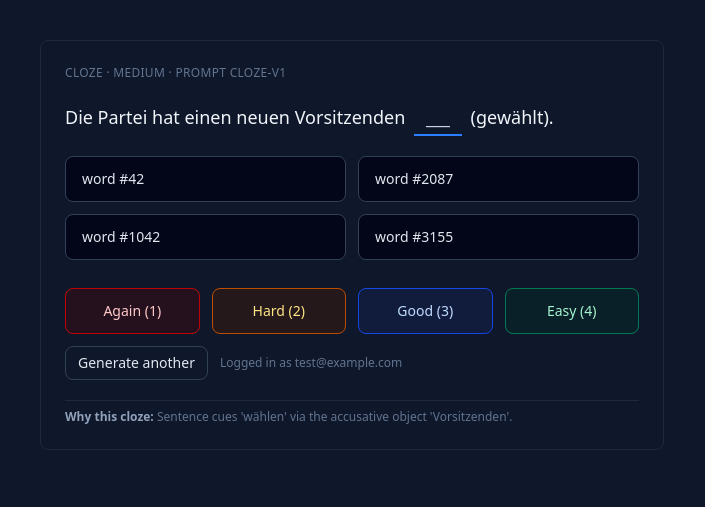
Test case: ClozePage › updates the selection when a distractor is clicked
Click the button with test id "cloze-choice-1042". click: (121,237)
box: left=65, top=214, right=346, bottom=260
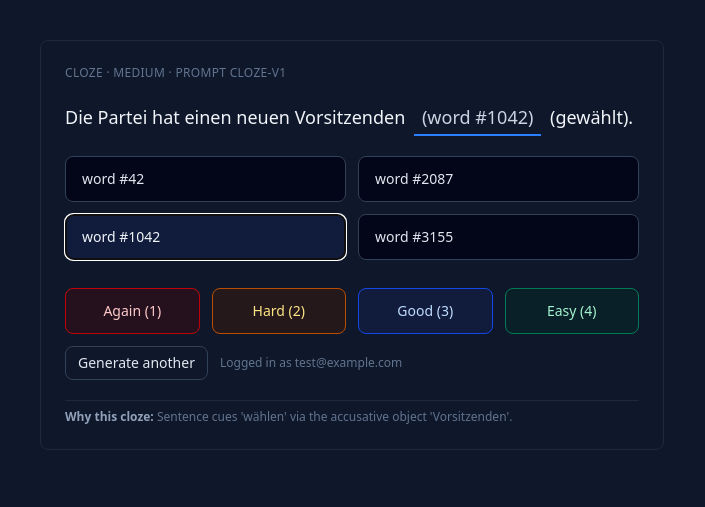
Now the text with test id "cloze-blank" shows "1042", box left=422, top=105, right=533, bottom=129
